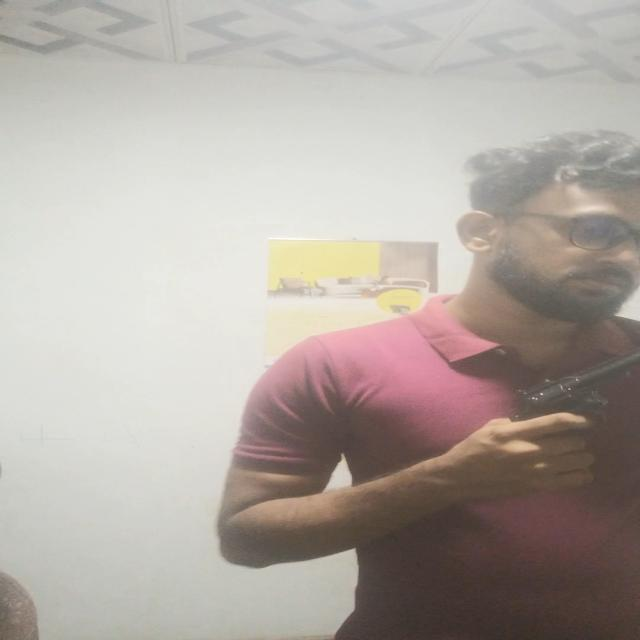Gun_Holder: (475, 346, 640, 511)
Person: (216, 111, 639, 640)
